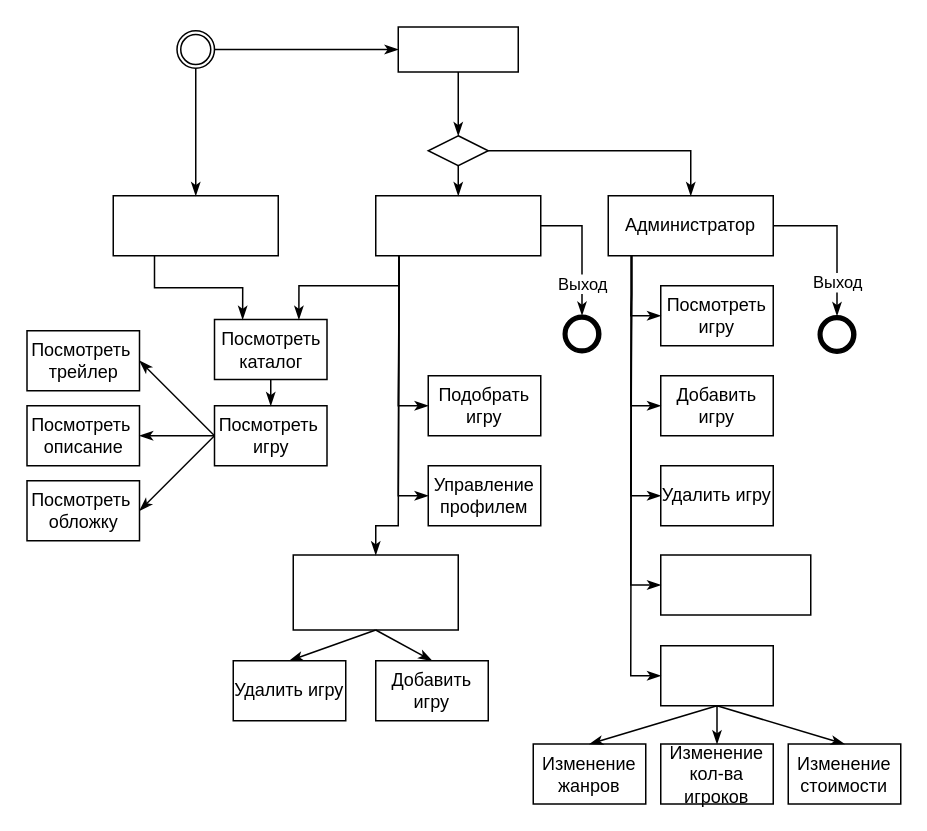
The diagram is 927 pixels wide and 831 high, and some of its shapes have lost their labels. The shapes that lost their labels are listed below. From the top down, each one's centre as x and y in pixels, then its label:
point (457, 49): Авторизация
point (195, 225): Неавторизованный пользователь
point (457, 225): Авторизованный пользователь
point (375, 592): Управление списком "Понравившиеся"
point (735, 584): Управление пользователями
point (716, 675): Изменение игр
